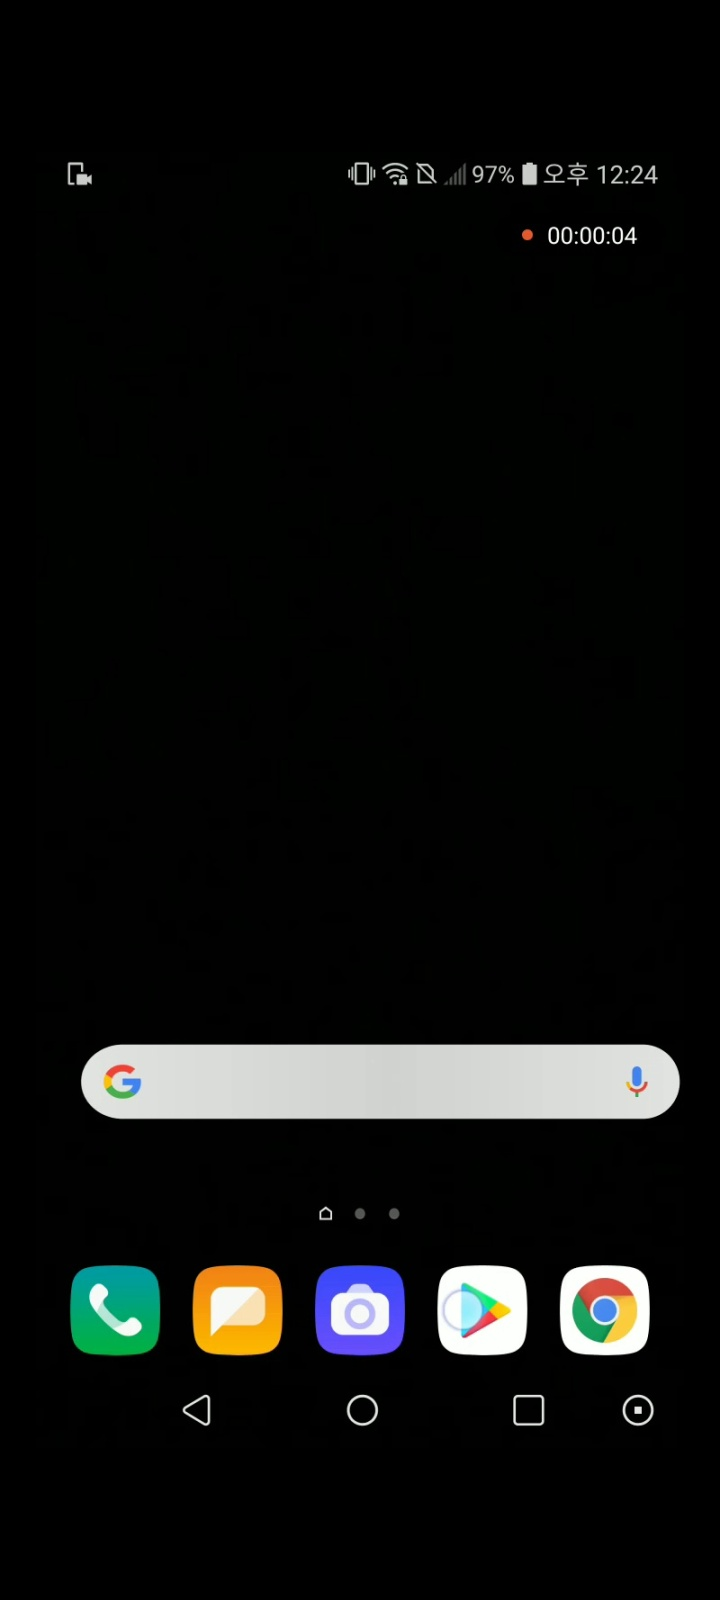Cursor: (444, 1287, 488, 1332)
